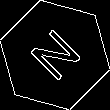N_SE: (23, 23, 87, 87)
